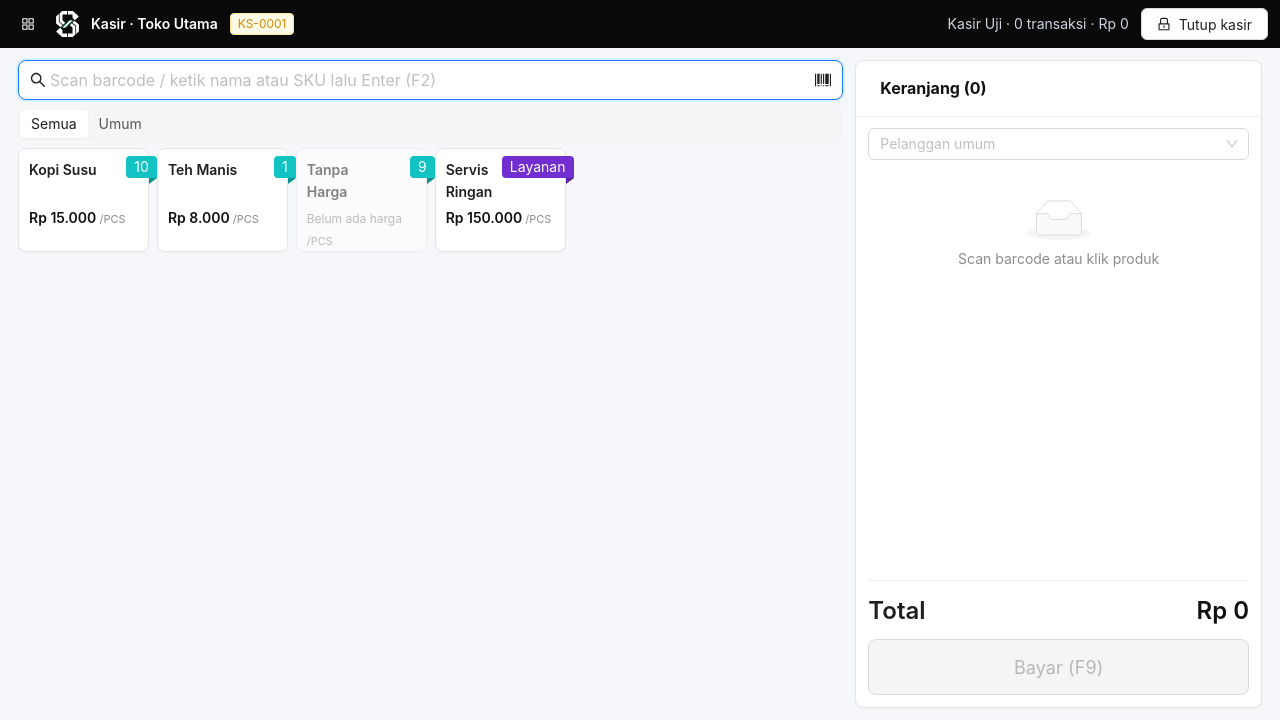
Scenario: Kasir (Register) › uang diterima kurang dari total: tombol selesai nonaktif dan tercatat kurang
The image size is (1280, 720).
Click the text "Kopi Susu" at (63, 170), box [29, 161, 97, 178]
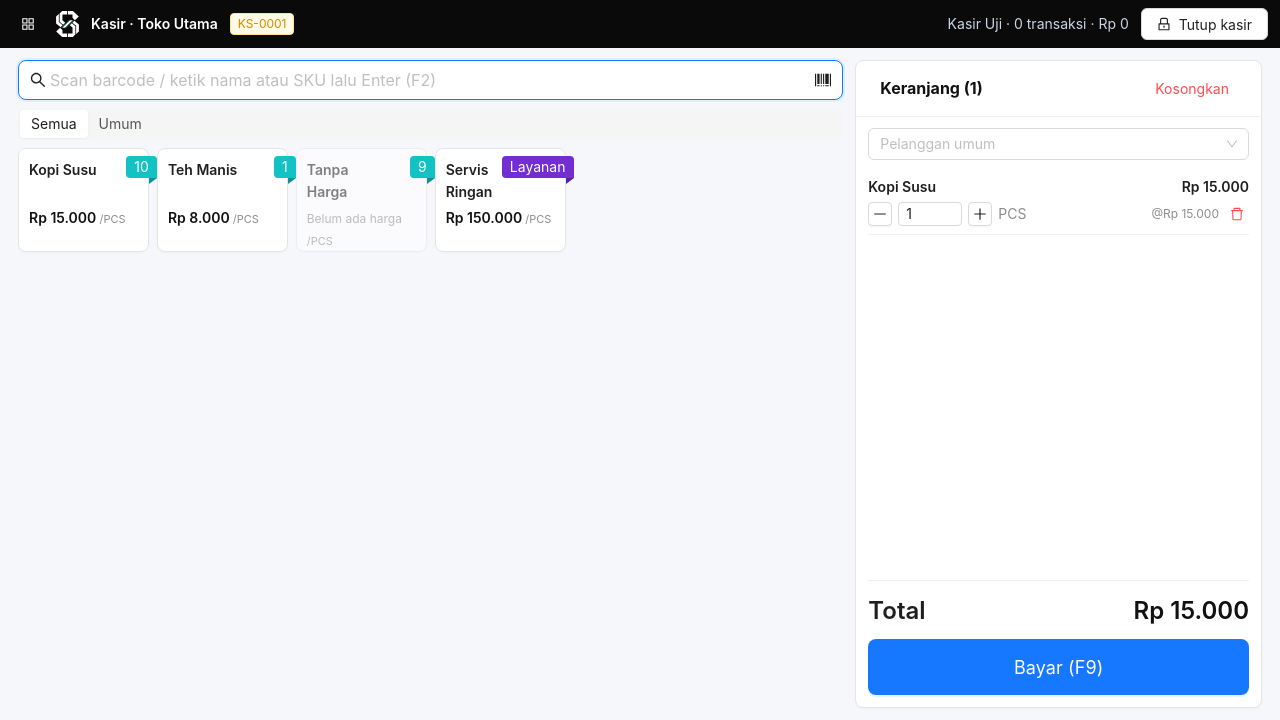
Click the button "Bayar (F9)" at (1059, 667), box [868, 639, 1249, 695]
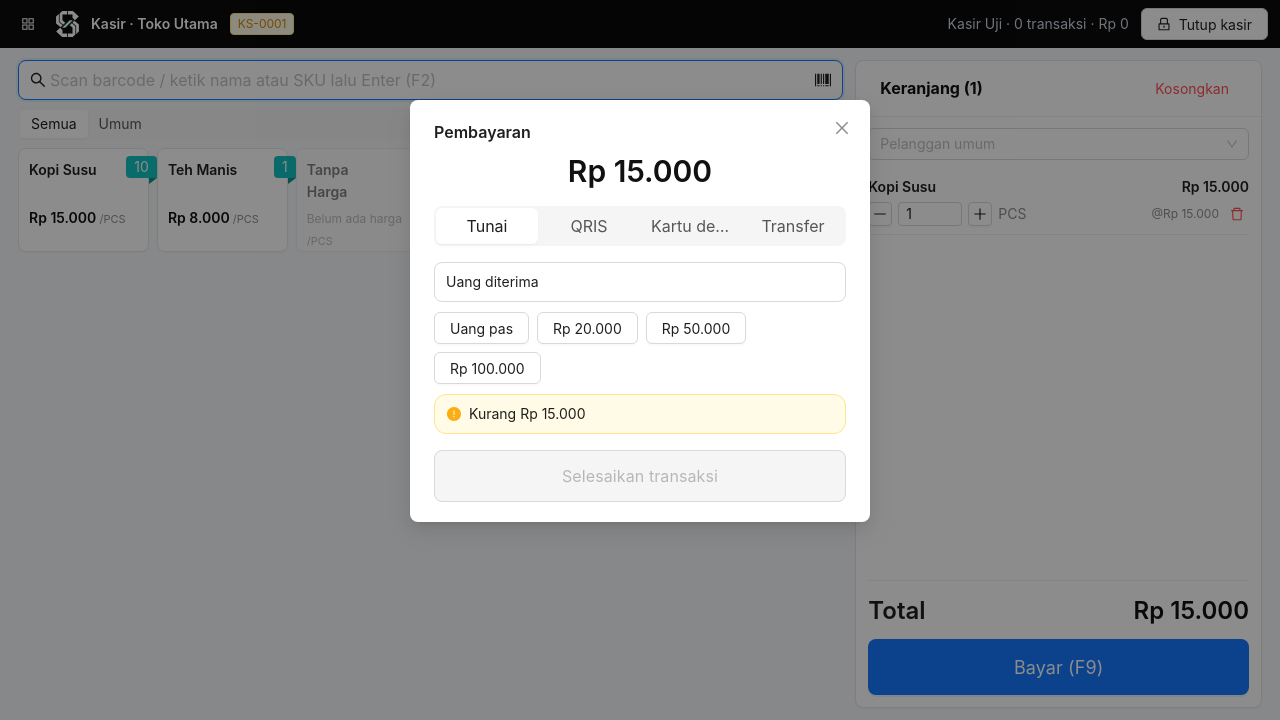
Now the button "Selesaikan transaksi" is disabled, box [434, 450, 846, 502]
Now the text "Kurang Rp 15.000" is shown, box [469, 405, 586, 422]
